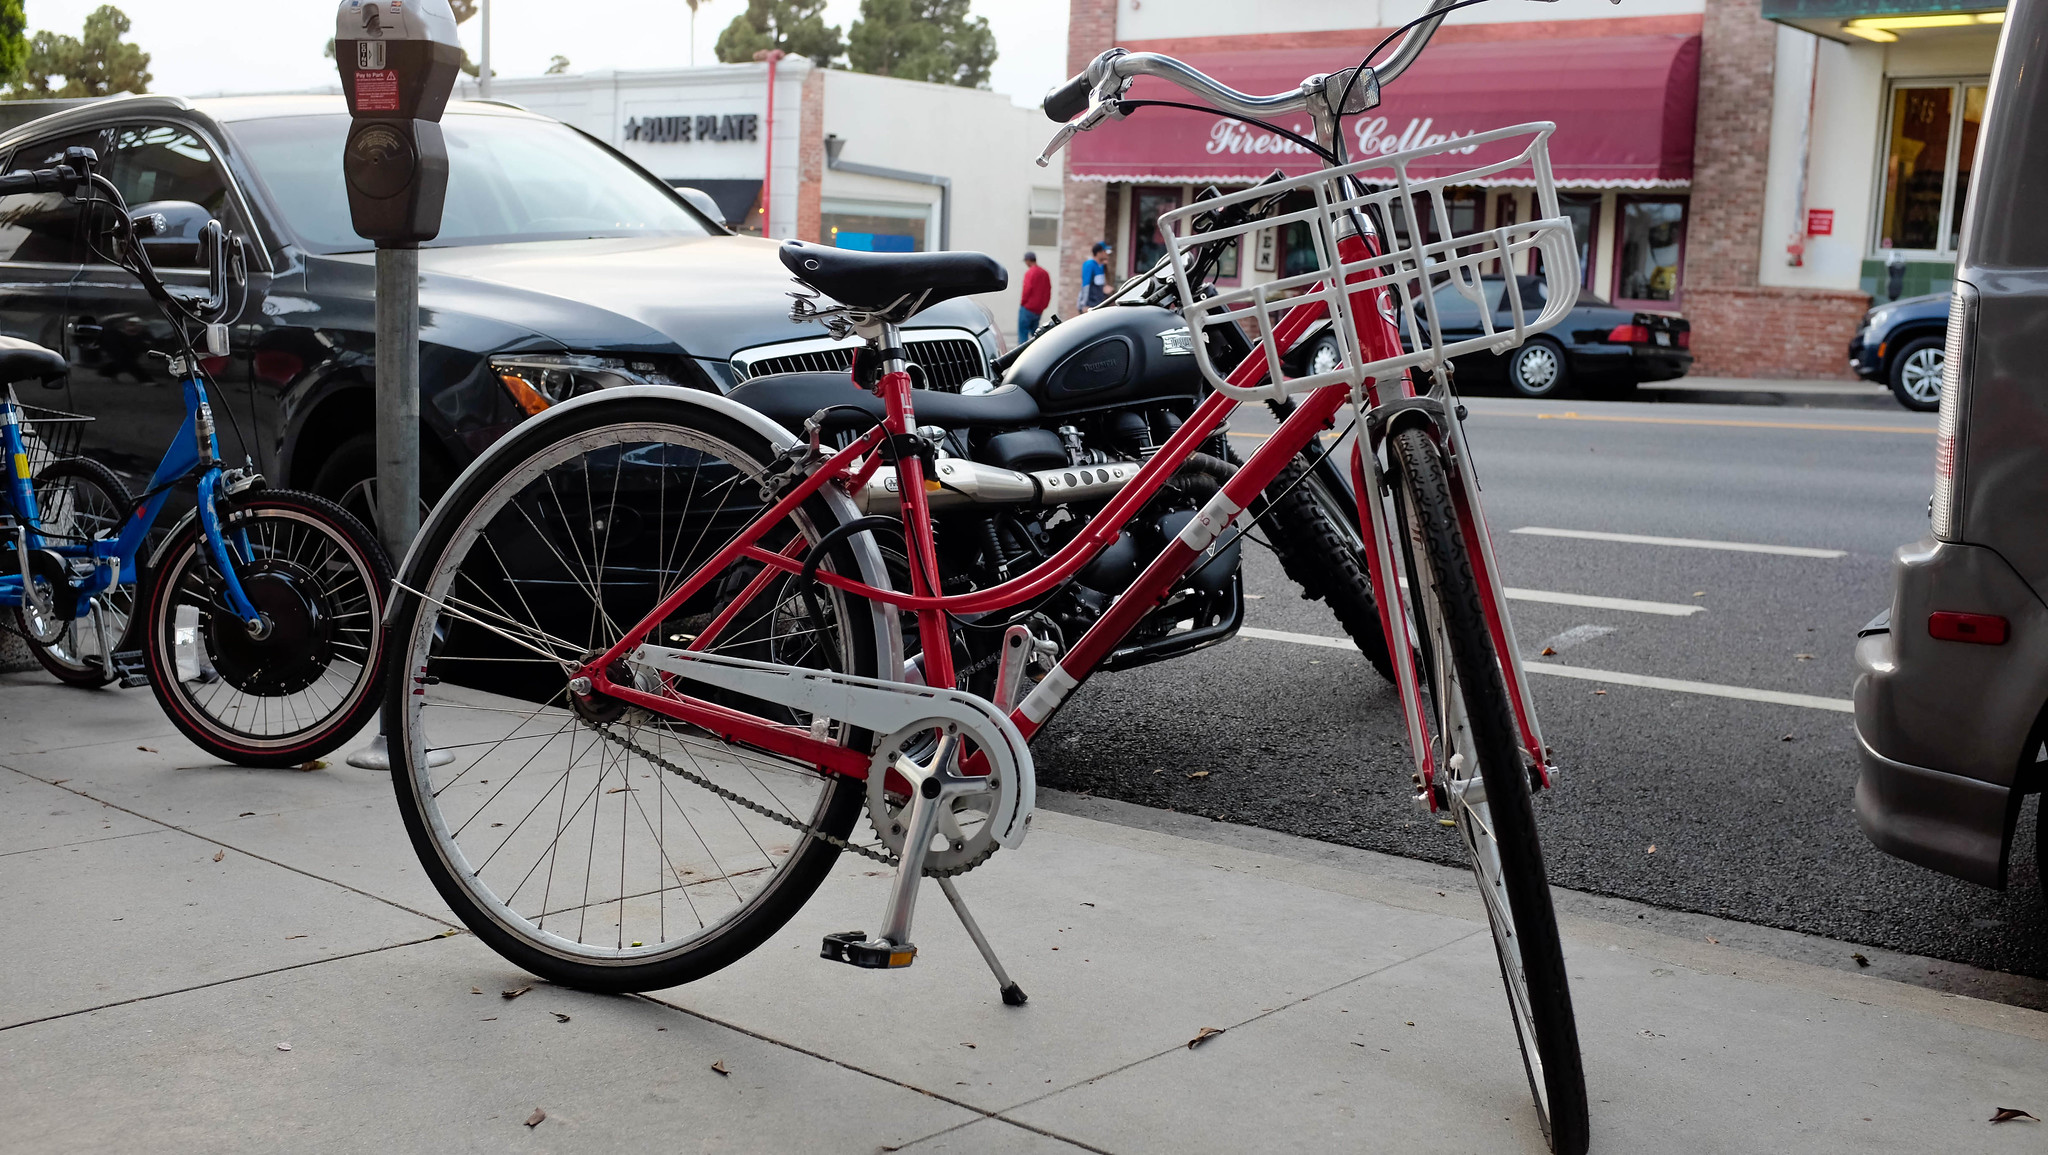bicycle: (367, 30, 1713, 1124)
